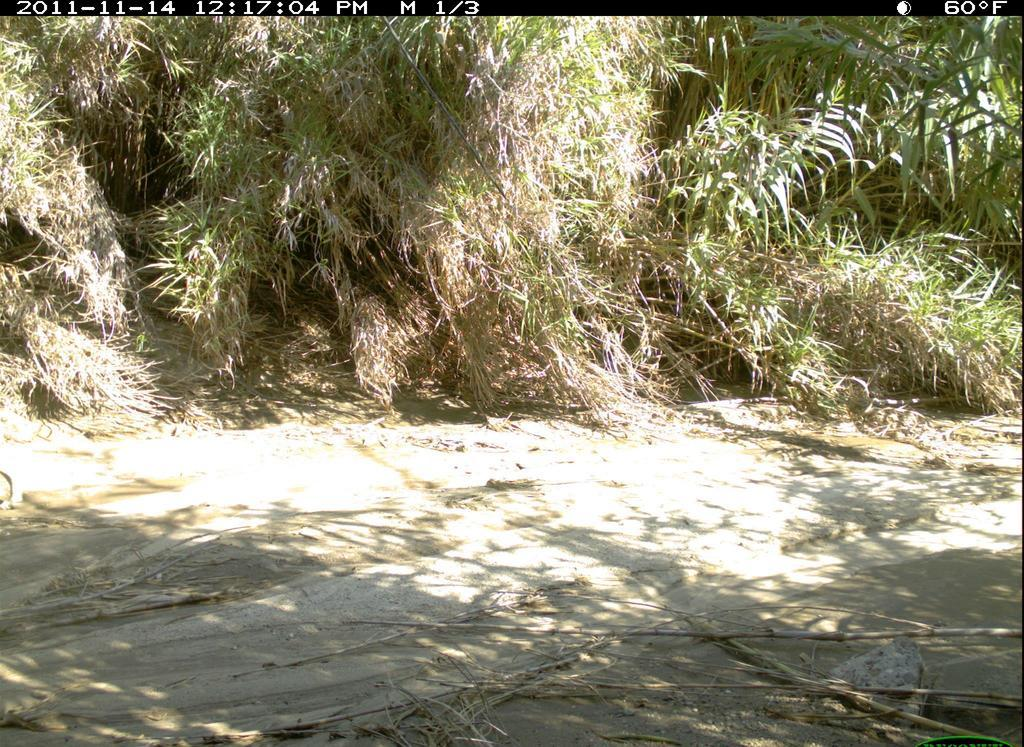coyote: (1, 437, 34, 513)
